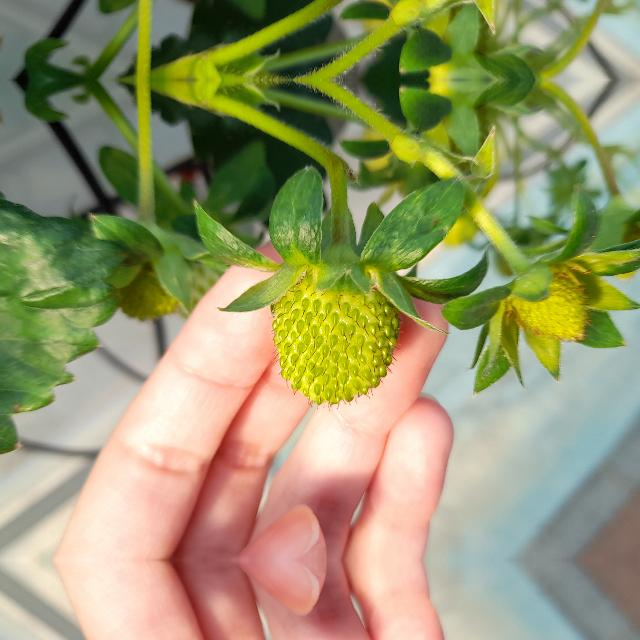Health_25: (269, 265, 403, 411)
